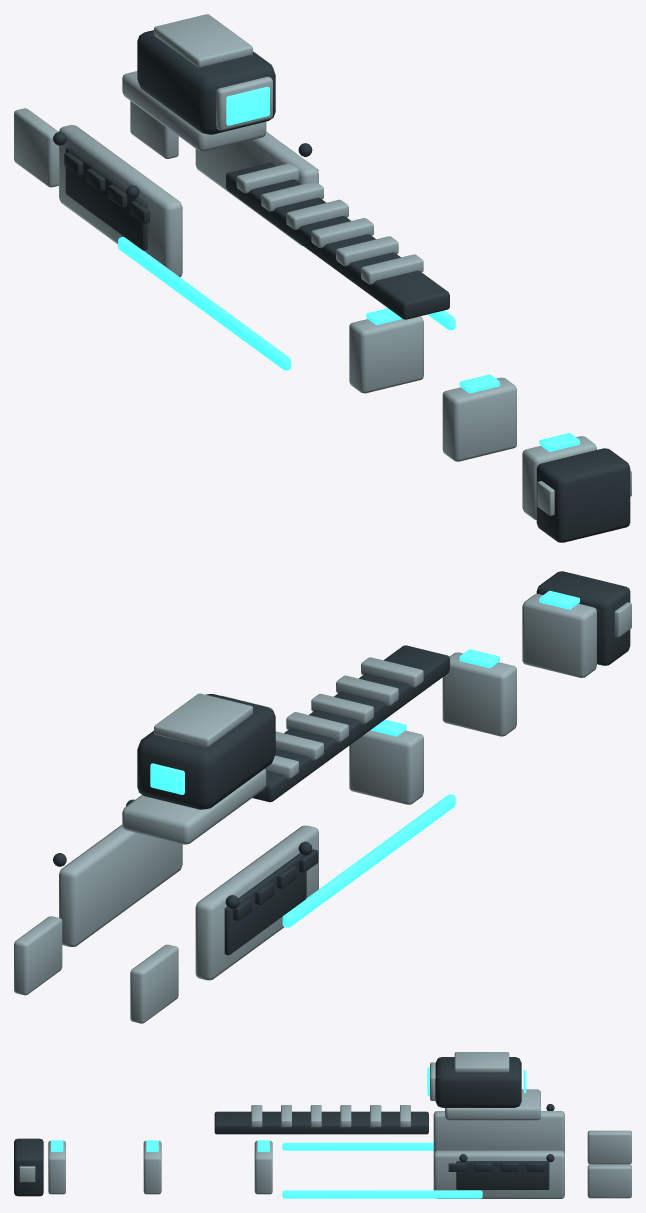
File: SivraRifleDetails.fbx
3 renders of one model, top to bottom at view 1: azimuth 30°, elevation 25°; view 2: azimuth 150°, elevation 25°; view 3: azimuth 270°, elevation 25°, orthographic. The views are drawn at different scales.
Visible parts, largest first — view 1: DF_SivraRifle_Sivra_Titanium, DF_SivraRifle_Sivra_Graphite, DF_SivraRifle_Sivra_CyanEmission; view 2: DF_SivraRifle_Sivra_Titanium, DF_SivraRifle_Sivra_Graphite, DF_SivraRifle_Sivra_CyanEmission; view 3: DF_SivraRifle_Sivra_Titanium, DF_SivraRifle_Sivra_Graphite, DF_SivraRifle_Sivra_CyanEmission.
Part boxes in pixels (bbox=[...]): DF_SivraRifle_Sivra_Titanium: bbox=[14, 14, 631, 519]; DF_SivraRifle_Sivra_Graphite: bbox=[53, 30, 630, 542]; DF_SivraRifle_Sivra_CyanEmission: bbox=[118, 86, 579, 451]; DF_SivraRifle_Sivra_Titanium: bbox=[14, 594, 631, 1023]; DF_SivraRifle_Sivra_Graphite: bbox=[53, 571, 630, 955]; DF_SivraRifle_Sivra_CyanEmission: bbox=[150, 590, 579, 927]; DF_SivraRifle_Sivra_Titanium: bbox=[19, 1052, 631, 1198]; DF_SivraRifle_Sivra_Graphite: bbox=[14, 1057, 554, 1196]; DF_SivraRifle_Sivra_CyanEmission: bbox=[51, 1067, 526, 1198].
Size of the model in its own units: 18.4 by 20.35 by 89.45.
